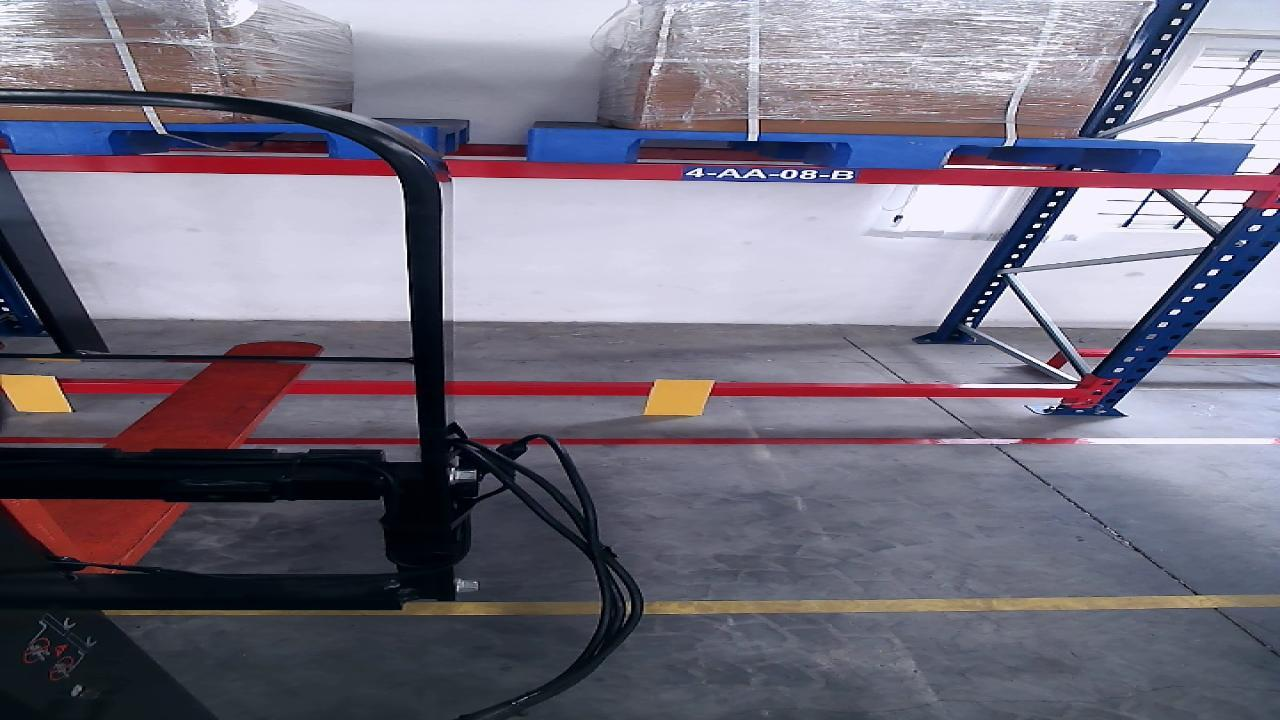h_rack: (6, 152, 1277, 190), (68, 383, 1073, 398)
orange_strip: (0, 376, 74, 412), (642, 379, 710, 415)
red_line: (245, 437, 1278, 444)
small_pallet: (532, 129, 1255, 173), (6, 123, 431, 158)
yellow_line: (414, 593, 1280, 615)
